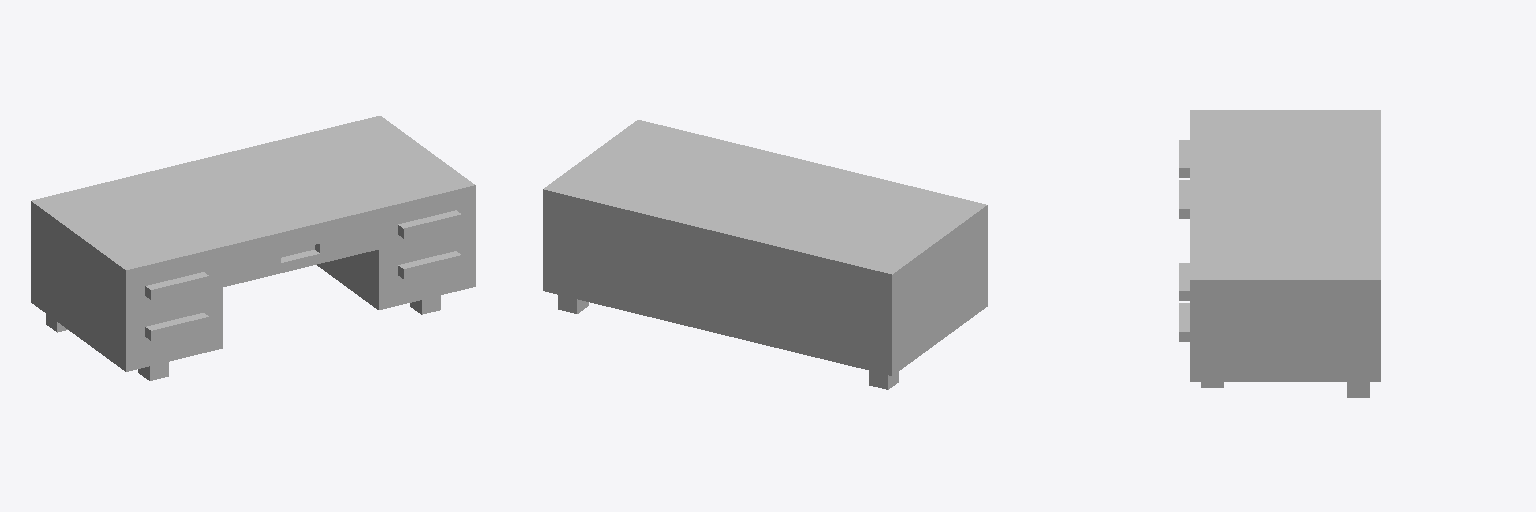
The model's file is Table.obj.
3 views of the same model, side by side, from view 1: azimuth 30°, elevation 25°; view 2: azimuth 150°, elevation 25°; view 3: azimuth 270°, elevation 25° (orthographic).
Parts seen in each view (by area): view 1: object 1; view 2: object 1; view 3: object 1.
Part boxes in pixels (bbox=[...]): object 1: bbox=[31, 116, 475, 380]; object 1: bbox=[543, 120, 987, 389]; object 1: bbox=[1179, 110, 1380, 397].
Bounding box in the file's own units: 3.6 × 1.2 × 1.8.